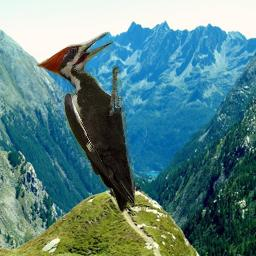Woodpecker: (36, 32, 135, 213)
